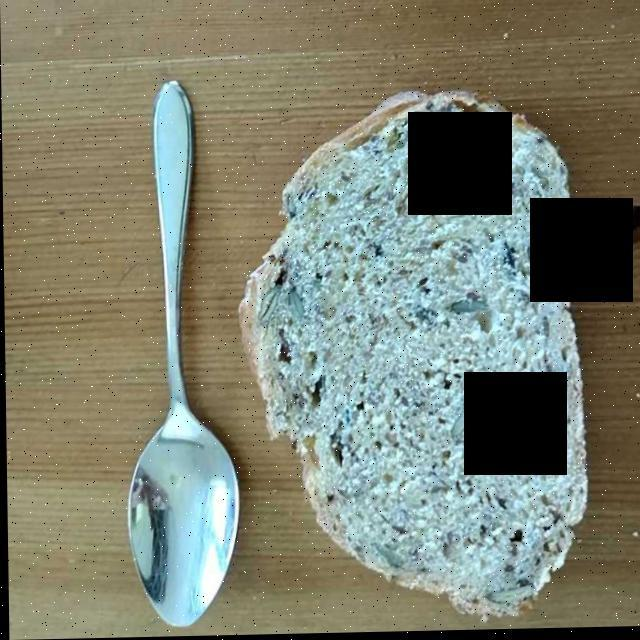bread: (256, 96, 584, 602)
